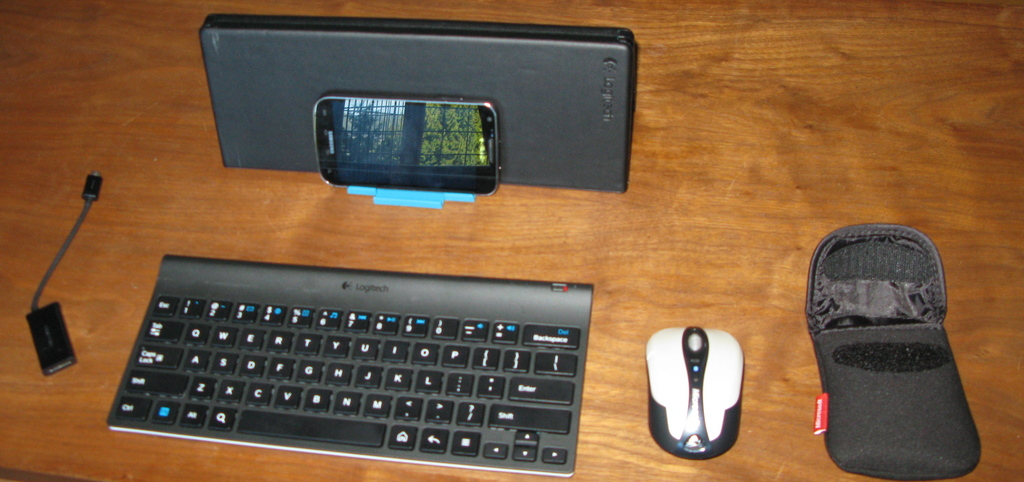Mobile-phone: (315, 94, 501, 197)
